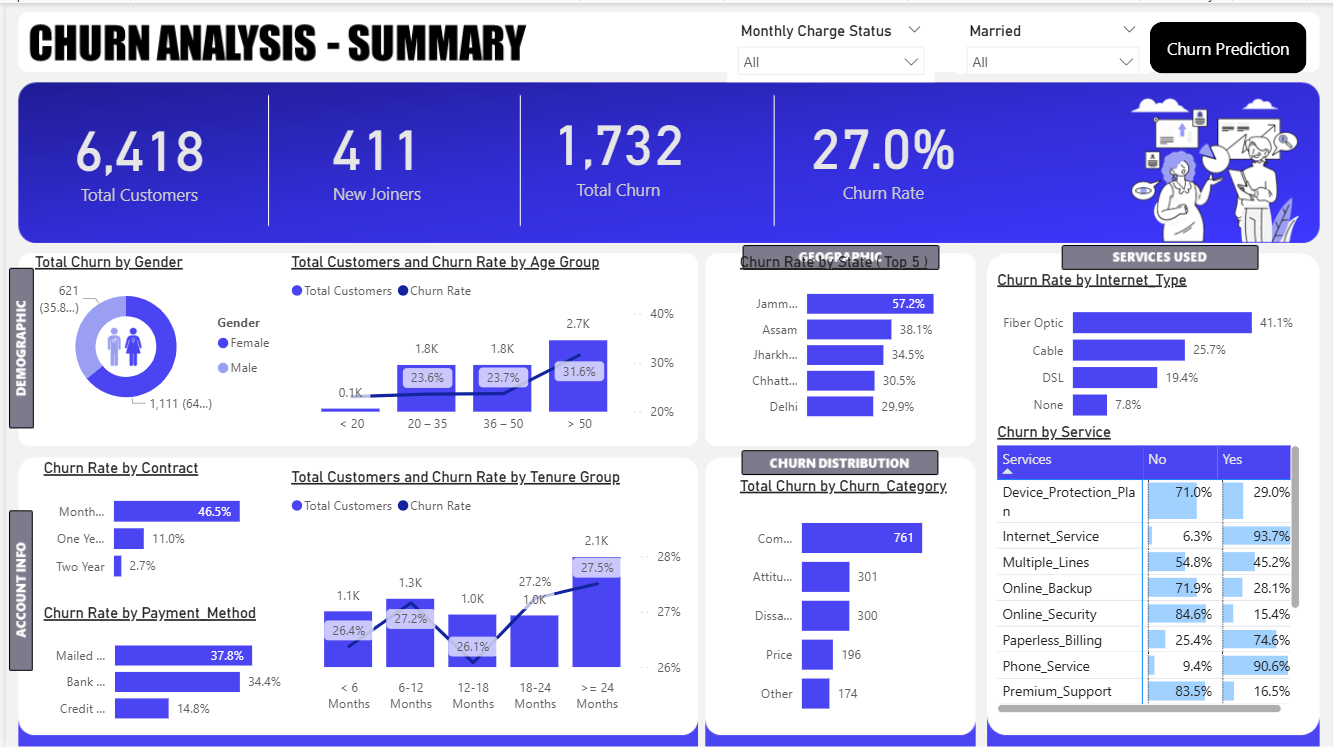

Layout of this report page (visuals, bound fields, positions):
{"tool":"powerbi","page":{"name":"Summary","canvas":[1280,720],"ordinal":0},"visuals":[{"type":"image","box":[56.7,303.3,116.7,56.7],"z":0},{"type":"card","fields":{"Values":["tbl_Measures.Total Customers"]},"box":[23.3,85,211.7,125],"z":1000},{"type":"card","fields":{"Values":["tbl_Measures.New Joiners"]},"box":[251.7,83.3,211.7,125],"z":2000},{"type":"card","fields":{"Values":["tbl_Measures.Total Churn"]},"box":[486.7,80,210,123.3],"z":3000},{"type":"card","fields":{"Values":["tbl_Measures.Churn Rate"]},"box":[741.7,83.3,210,123.3],"z":4000},{"type":"donutChart","fields":{"Category":["prod_Churn.Gender"],"Y":["tbl_Measures.Total Churn"]},"box":[22.9,241.4,247.1,164.3],"z":5000},{"type":"lineClusteredColumnComboChart","fields":{"Category":["mapping_AgeGrp.Age Group"],"Y":["tbl_Measures.Total Customers"],"Y2":["tbl_Measures.Churn Rate"]},"box":[270,241.7,380,183.3],"z":6000},{"type":"clusteredBarChart","fields":{"Category":["prod_Churn.Payment_Method"],"Y":["tbl_Measures.Churn Rate"]},"box":[31.7,580,245,126.7],"z":7000},{"type":"clusteredBarChart","fields":{"Category":["prod_Churn.Contract"],"Y":["tbl_Measures.Churn Rate"]},"box":[31.7,440,238.3,130],"z":8000},{"type":"lineClusteredColumnComboChart","fields":{"Category":["mapping_TenureGrp.Tenure Group"],"Y":["tbl_Measures.Total Customers"],"Y2":["tbl_Measures.Churn Rate"]},"box":[270,448.3,386.7,243.3],"z":9000},{"type":"clusteredBarChart","title":"Churn Rate by State ( Top 5 )","fields":{"Category":["prod_Churn.State"],"Y":["tbl_Measures.Churn Rate"]},"box":[703.3,241.7,230,173.3],"z":10000},{"type":"clusteredBarChart","fields":{"Category":["prod_Churn.Churn_Category"],"Y":["tbl_Measures.Total Churn"]},"box":[703.3,456.7,210,245],"z":11000},{"type":"clusteredBarChart","fields":{"Category":["prod_Churn.Internet_Type"],"Y":["tbl_Measures.Churn Rate"]},"box":[951.7,258.3,301.7,156.7],"z":12000},{"type":"pivotTable","title":"Churn by Service","fields":{"Rows":["prod_Services.Services"],"Columns":["prod_Services.Status"],"Values":["Sum(prod_Services.Churn_status)"]},"box":[951.7,405,301.7,285],"z":13000},{"type":"slicer","fields":{"Values":["prod_Services.Monthly Charge Status"]},"box":[696.7,13.3,200,63.3],"z":14000},{"type":"slicer","fields":{"Values":["prod_Churn.Married"]},"box":[916.7,13.3,186.7,55],"z":15000},{"type":"shape","box":[1104.3,18.6,151.4,50],"z":16000}]}

Visuals, with their boxes in screenshot pixels (x1, y1, x2, y2), scaled from the page's 1280x720 canvas onto the 1333x748 screenshot:
image: bbox=[59, 315, 181, 374]
card - tbl_Measures.Total Customers: bbox=[24, 88, 245, 218]
card - tbl_Measures.New Joiners: bbox=[262, 87, 483, 216]
card - tbl_Measures.Total Churn: bbox=[507, 83, 726, 211]
card - tbl_Measures.Churn Rate: bbox=[772, 87, 991, 215]
donutChart - prod_Churn.Gender x tbl_Measures.Total Churn: bbox=[24, 251, 281, 421]
lineClusteredColumnComboChart - mapping_AgeGrp.Age Group x tbl_Measures.Total Customers: bbox=[281, 251, 677, 442]
clusteredBarChart - prod_Churn.Payment_Method x tbl_Measures.Churn Rate: bbox=[33, 603, 288, 734]
clusteredBarChart - prod_Churn.Contract x tbl_Measures.Churn Rate: bbox=[33, 457, 281, 592]
lineClusteredColumnComboChart - mapping_TenureGrp.Tenure Group x tbl_Measures.Total Customers: bbox=[281, 466, 684, 718]
"Churn Rate by State ( Top 5 )" clusteredBarChart: bbox=[732, 251, 972, 431]
clusteredBarChart - prod_Churn.Churn_Category x tbl_Measures.Total Churn: bbox=[732, 474, 951, 729]
clusteredBarChart - prod_Churn.Internet_Type x tbl_Measures.Churn Rate: bbox=[991, 268, 1305, 431]
"Churn by Service" pivotTable: bbox=[991, 421, 1305, 717]
slicer - prod_Services.Monthly Charge Status: bbox=[726, 14, 934, 80]
slicer - prod_Churn.Married: bbox=[955, 14, 1149, 71]
shape: bbox=[1150, 19, 1308, 71]
